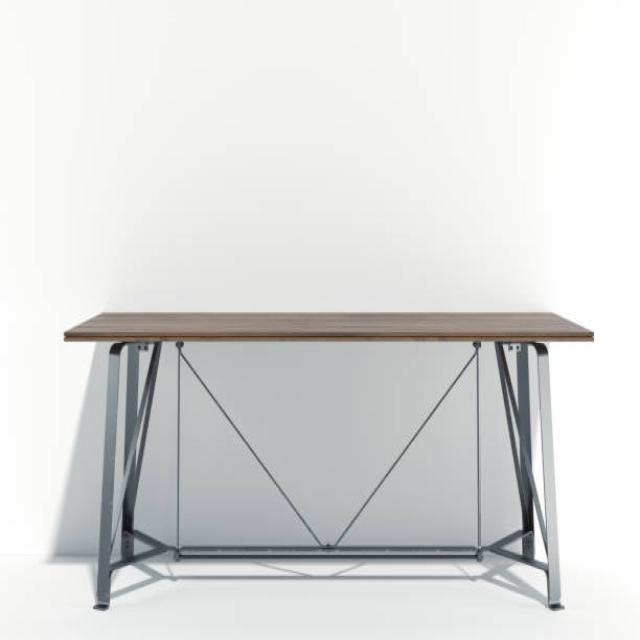table: (63, 310, 594, 610)
